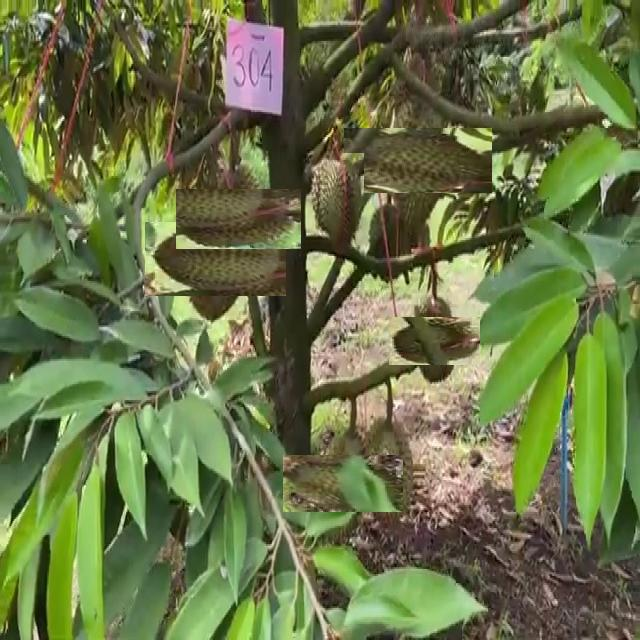durian: (161, 205, 269, 313), (365, 106, 472, 214), (191, 173, 285, 266), (298, 439, 388, 528), (360, 413, 416, 529), (309, 153, 364, 250), (400, 306, 470, 376), (368, 198, 410, 286)
